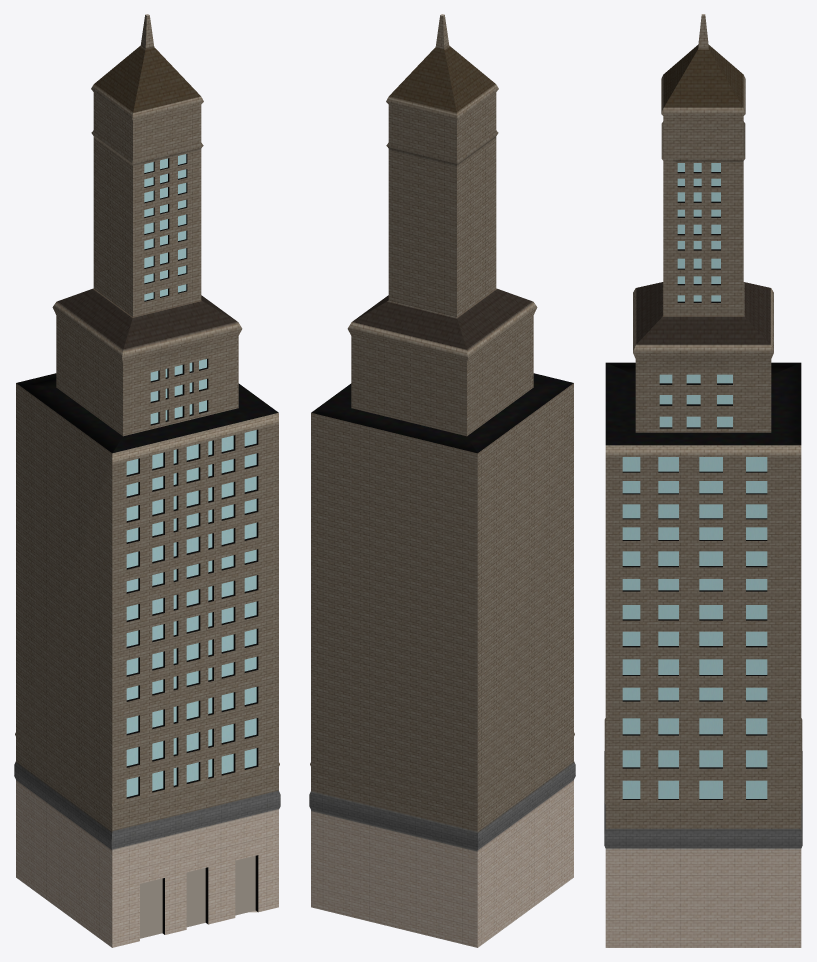
The model's file is building1.fbx.
3 views of the same model, side by side, from view 1: azimuth 30°, elevation 25°; view 2: azimuth 150°, elevation 25°; view 3: azimuth 270°, elevation 25° (orthographic).
Visible parts, largest first — view 1: pCube1; view 2: pCube1; view 3: pCube1.
Part boxes in pixels (x1,y1,x2,y2): pCube1: (14, 14, 280, 947); pCube1: (309, 14, 575, 947); pCube1: (604, 14, 802, 947).
Size of the model in its own units: 1.89 by 9.38 by 1.89.
